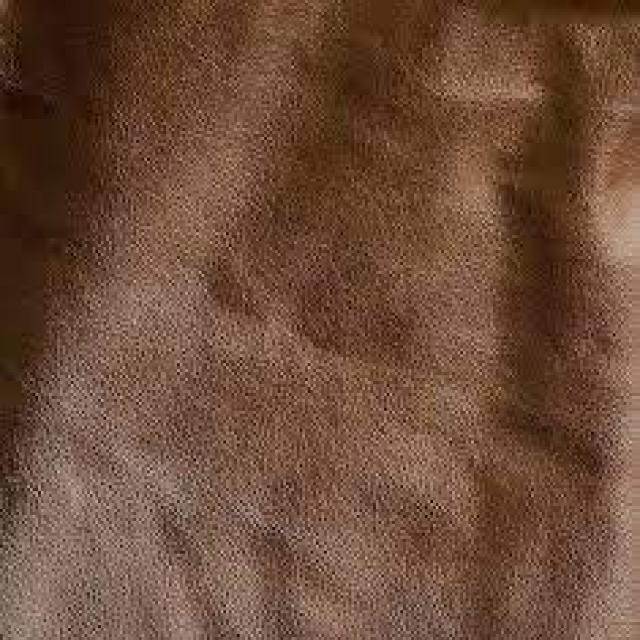Crease: (122, 85, 349, 368), (432, 113, 558, 443)
